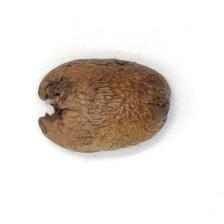NG: (77, 67, 153, 139), (35, 73, 70, 136)
